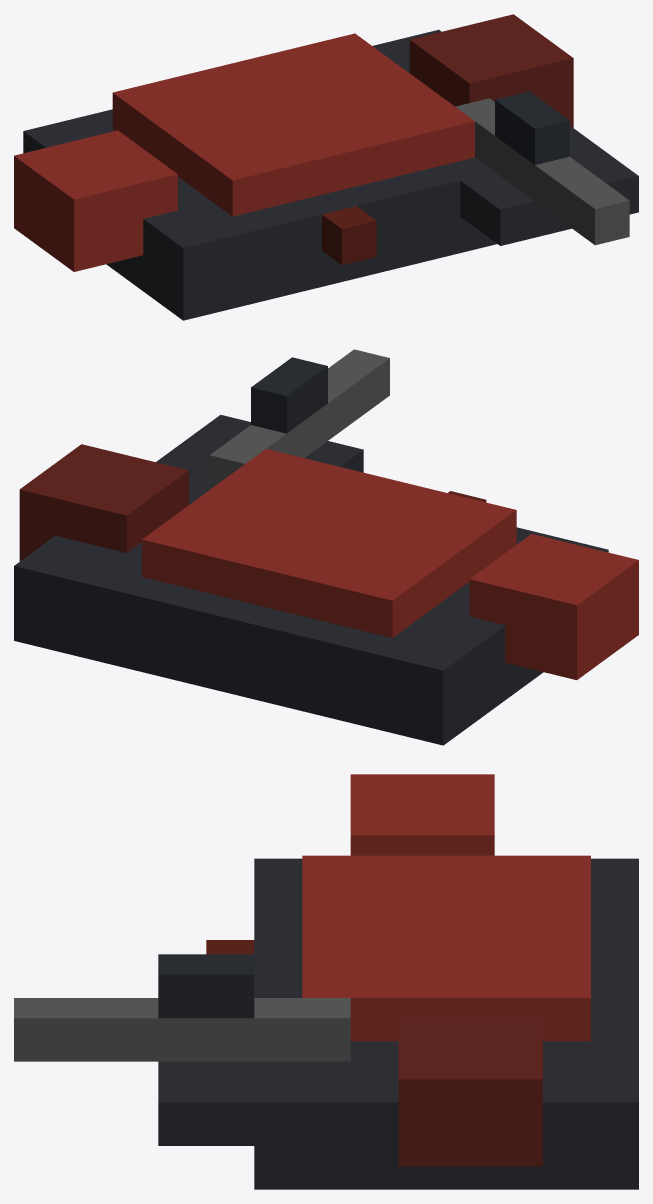
The model's file is mech_sniper_destroyed.glb.
The picture shows the model from 3 angles, top to bottom: view 1: azimuth 30°, elevation 25°; view 2: azimuth 150°, elevation 25°; view 3: azimuth 270°, elevation 25°; orthographic projection. The views are drawn at different scales.
Parts seen in each view (by area): view 1: Wreck mesh, Rifle mesh, Scope mesh, Ember mesh; view 2: Wreck mesh, Rifle mesh, Scope mesh; view 3: Wreck mesh, Rifle mesh, Scope mesh, Ember mesh.
Part boxes in pixels (x1,y1,x2,y2): Wreck mesh: (14,14,638,320); Rifle mesh: (455,98,629,245); Scope mesh: (495,91,569,164); Ember mesh: (322,206,376,264); Wreck mesh: (14,414,638,745); Rifle mesh: (209,349,389,489); Scope mesh: (251,357,327,433); Wreck mesh: (158,774,638,1189); Rifle mesh: (14,998,350,1061); Scope mesh: (158,954,254,1018); Ember mesh: (206,940,254,954).
Bounding box in the file's own units: 15 × 4 × 13.
Materials: 1 (1 with a texture image).
